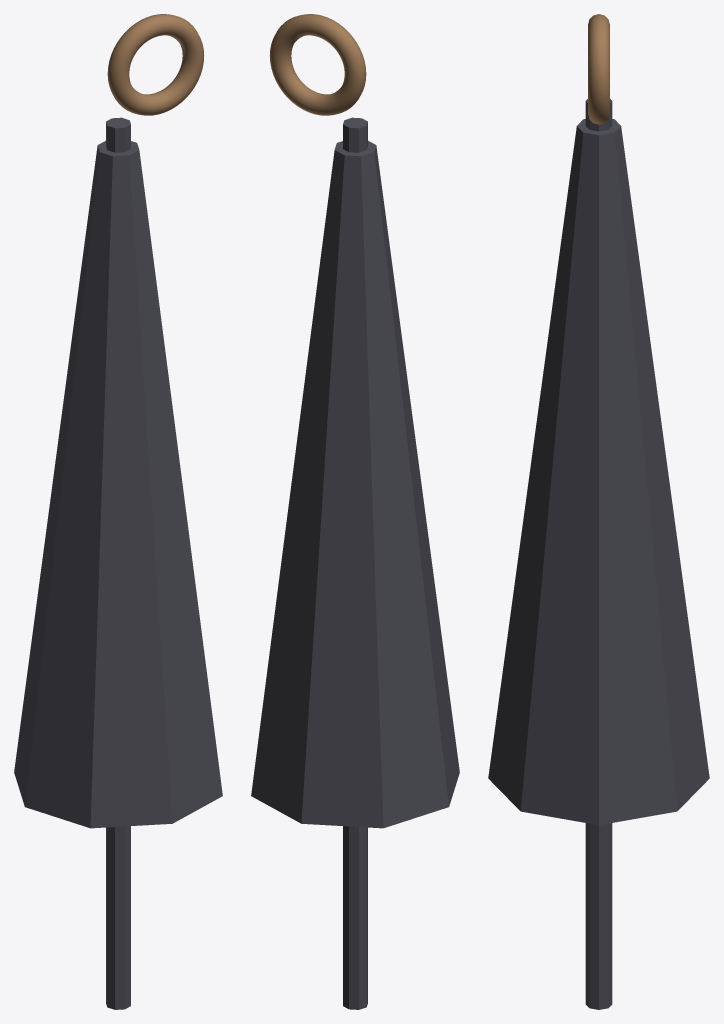
The model's file is sd_guarda_chuva.glb.
The picture shows the model from 3 angles, left to right: view 1: azimuth 30°, elevation 25°; view 2: azimuth 150°, elevation 25°; view 3: azimuth 270°, elevation 25°; orthographic projection. The views are drawn at different scales.
Parts seen in each view (by area): view 1: Cylinder; view 2: Cylinder; view 3: Cylinder.
Boxes of the visible parts, box(x1,y1,x2,y2) form: Cylinder: box(14, 14, 222, 1009); Cylinder: box(251, 14, 459, 1009); Cylinder: box(488, 14, 709, 1009).
Size of the model in its own units: 0.2 by 1 by 0.2.
